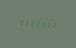nine: (47, 20, 52, 29), (41, 20, 46, 28)
six: (29, 19, 34, 27)
two: (23, 18, 28, 27), (35, 19, 40, 28), (53, 21, 58, 29)
zero: (17, 18, 22, 26)
